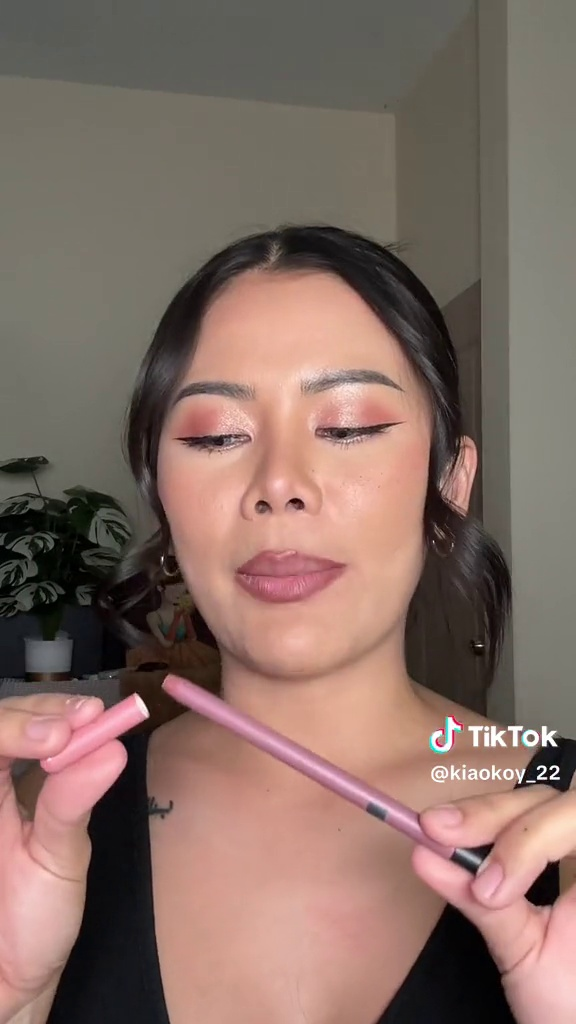train' :'yolo_data/train/images',: (156, 665, 506, 873), (24, 688, 156, 778)
